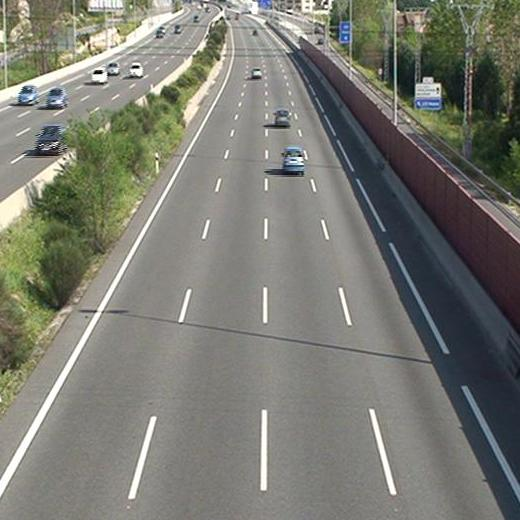car: (282, 148, 304, 174), (274, 109, 290, 127), (251, 68, 262, 78)
